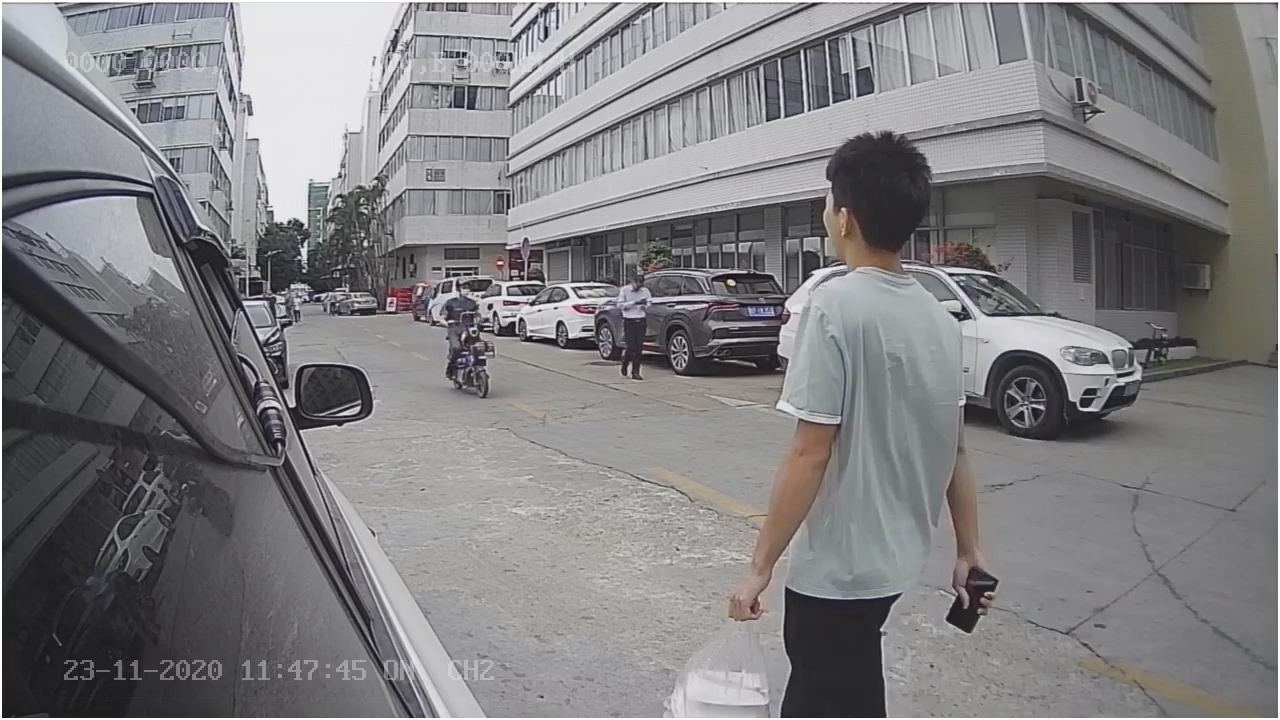person: (755, 112, 987, 496)
